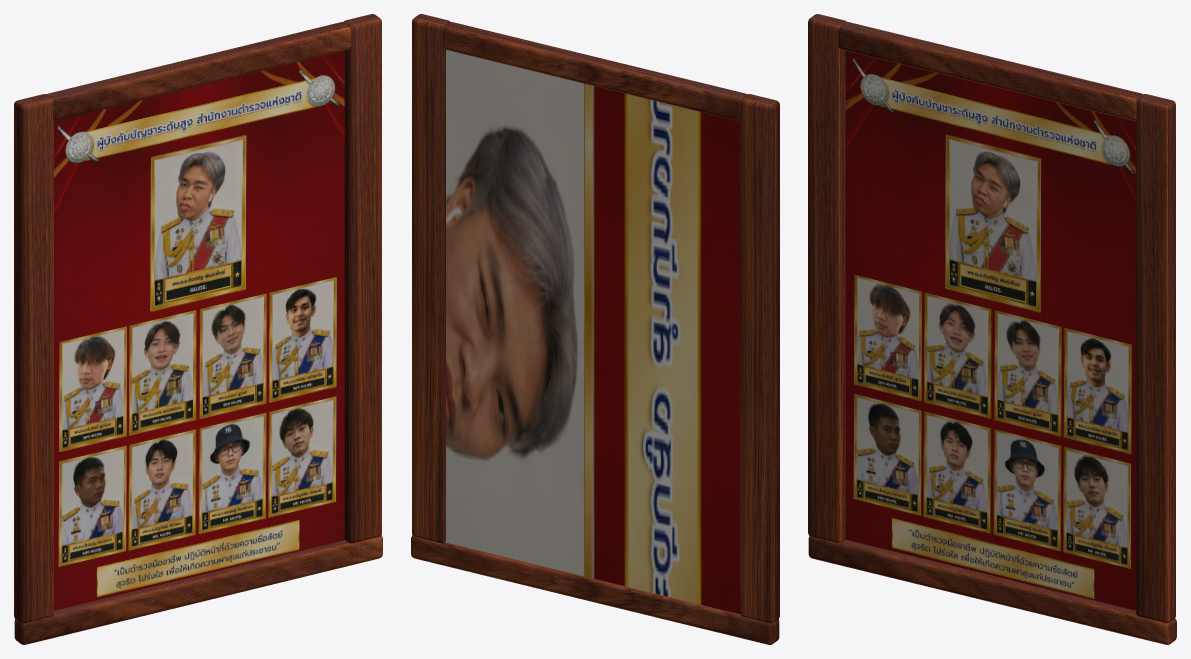
The model's file is Picture sign.fbx.
3 views of the same model, side by side, from view 1: azimuth 30°, elevation 25°; view 2: azimuth 150°, elevation 25°; view 3: azimuth 330°, elevation 25° (orthographic).
Visible parts, largest first — view 1: Cube, Frame_Right.001, Frame_Right.002, Frame_Bottom, Frame_Top; view 2: Cube, Frame_Right.001, Frame_Right.002, Frame_Top, Frame_Bottom; view 3: Cube, Frame_Right.002, Frame_Right.001, Frame_Bottom, Frame_Top.
Boxes of the visible parts, x1,y1,x2,y2 form: Cube: (54, 50, 344, 610); Frame_Right.001: (14, 94, 53, 623); Frame_Right.002: (343, 14, 381, 543); Frame_Bottom: (14, 535, 382, 644); Frame_Top: (46, 22, 351, 121); Cube: (445, 50, 739, 614); Frame_Right.001: (740, 94, 779, 623); Frame_Right.002: (412, 14, 450, 543); Frame_Top: (442, 22, 747, 121); Frame_Bottom: (411, 535, 779, 644); Cube: (845, 51, 1135, 610); Frame_Right.002: (1136, 94, 1175, 623); Frame_Right.001: (808, 14, 846, 543); Frame_Bottom: (808, 536, 1176, 644); Frame_Top: (838, 22, 1142, 121).
Bounding box in the file's own units: 56.31 × 80.14 × 2.5.
5 materials, 5 textured.
